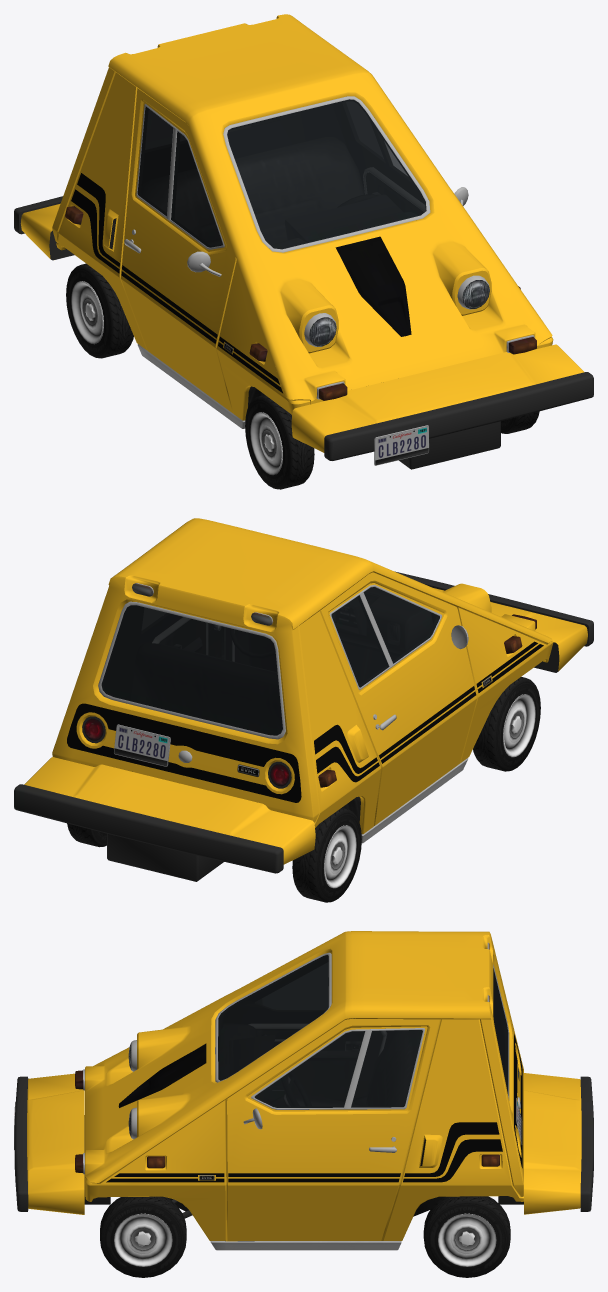
The model's file is colby.glb.
The picture shows the model from 3 angles, top to bottom: view 1: azimuth 30°, elevation 25°; view 2: azimuth 150°, elevation 25°; view 3: azimuth 270°, elevation 25°; orthographic projection. The views are drawn at different scales.
Parts seen in each view (by area): view 1: Colby80_body_SHTYCAR80_bodymat_0, Colby80_Interior_UCB_Interiors_2_0, Colby80_Windshield_UCB_Lights_and_Glass_Transperent_0, Colby80_Bottom_UCB_BOTTOM_0, Colby80_Bumper_Front_SHTYCAR80_bodymat_0, Colby80_Bumper_Front_Inner_UCB_BOTTOM_0, Colby80_Glass_Passenger_UCB_Lights_and_Glass_Transperent_0, wheel_FR, wheel_RR, Colby80_Vynil_Trim_UCB_BOTTOM_0, Colby80_Numberplate_front_Numberplates_Misk_U_0, Colby80_Headlights_UCB_Lights_and_Glass_0 (+4 smaller); view 2: Colby80_body_SHTYCAR80_bodymat_0, Colby80_Interior_UCB_Interiors_2_0, Colby80_Rear_window_UCB_Lights_and_Glass_Transperent_0, Colby80_Bumper_Rear_SHTYCAR80_bodymat_0, Colby80_Bumper_rear_Inner_UCB_BOTTOM_0, Colby80_Vynil_Trim_UCB_BOTTOM_0, Colby80_Bottom_UCB_BOTTOM_0, Colby80_Glass_Passenger_UCB_Lights_and_Glass_Transperent_0, wheel_RR, wheel_FR, Colby80_Bumper_Front_SHTYCAR80_bodymat_0, Colby80_Numberplate_rear_Numberplates_Misk_U_0 (+3 smaller); view 3: Colby80_body_SHTYCAR80_bodymat_0, Colby80_Interior_UCB_Interiors_2_0, Colby80_Glass_Driver_UCB_Lights_and_Glass_Transperent_0, Colby80_Bottom_UCB_BOTTOM_0, Colby80_Bumper_Rear_SHTYCAR80_bodymat_0, Colby80_Bumper_Front_SHTYCAR80_bodymat_0, Colby80_Windshield_UCB_Lights_and_Glass_Transperent_0, wheel_RL, wheel_FL, Colby80_Vynil_Trim_UCB_BOTTOM_0, Colby80_Glass_Passenger_UCB_Lights_and_Glass_Transperent_0, Colby80_Bumper_Front_Inner_UCB_BOTTOM_0 (+3 smaller).
Part boxes in pixels (<box>): Colby80_body_SHTYCAR80_bodymat_0: <box>52,14,553,420</box>; Colby80_Interior_UCB_Interiors_2_0: <box>138,100,425,248</box>; Colby80_Windshield_UCB_Lights_and_Glass_Transperent_0: <box>227,99,426,249</box>; Colby80_Bottom_UCB_BOTTOM_0: <box>65,96,536,428</box>; Colby80_Bumper_Front_SHTYCAR80_bodymat_0: <box>291,344,584,452</box>; Colby80_Bumper_Front_Inner_UCB_BOTTOM_0: <box>324,372,593,469</box>; Colby80_Glass_Passenger_UCB_Lights_and_Glass_Transperent_0: <box>137,107,222,247</box>; wheel_FR: <box>245,394,314,489</box>; wheel_RR: <box>66,263,133,358</box>; Colby80_Vynil_Trim_UCB_BOTTOM_0: <box>71,173,282,393</box>; Colby80_Numberplate_front_Numberplates_Misk_U_0: <box>374,425,429,465</box>; Colby80_Headlights_UCB_Lights_and_Glass_0: <box>309,280,489,346</box>; Colby80_body_SHTYCAR80_bodymat_0: <box>52,518,553,834</box>; Colby80_Interior_UCB_Interiors_2_0: <box>102,587,439,734</box>; Colby80_Rear_window_UCB_Lights_and_Glass_Transperent_0: <box>101,605,282,735</box>; Colby80_Bumper_Rear_SHTYCAR80_bodymat_0: <box>24,757,315,864</box>; Colby80_Bumper_rear_Inner_UCB_BOTTOM_0: <box>14,784,283,881</box>; Colby80_Vynil_Trim_UCB_BOTTOM_0: <box>67,641,543,802</box>; Colby80_Bottom_UCB_BOTTOM_0: <box>82,583,542,843</box>; Colby80_Glass_Passenger_UCB_Lights_and_Glass_Transperent_0: <box>331,587,439,687</box>; wheel_RR: <box>292,808,361,902</box>; wheel_FR: <box>473,677,540,771</box>; Colby80_Bumper_Front_SHTYCAR80_bodymat_0: <box>434,588,587,671</box>; Colby80_Numberplate_rear_Numberplates_Misk_U_0: <box>114,724,170,766</box>; Colby80_body_SHTYCAR80_bodymat_0: <box>85,931,523,1241</box>; Colby80_Interior_UCB_Interiors_2_0: <box>218,955,507,1107</box>; Colby80_Glass_Driver_UCB_Lights_and_Glass_Transperent_0: <box>254,1030,422,1107</box>; Colby80_Bottom_UCB_BOTTOM_0: <box>75,942,520,1250</box>; Colby80_Bumper_Rear_SHTYCAR80_bodymat_0: <box>524,1073,581,1214</box>; Colby80_Bumper_Front_SHTYCAR80_bodymat_0: <box>27,1073,84,1214</box>; Colby80_Windshield_UCB_Lights_and_Glass_Transperent_0: <box>218,955,328,1080</box>; wheel_RL: <box>423,1196,510,1277</box>; wheel_FL: <box>100,1196,186,1277</box>; Colby80_Vynil_Trim_UCB_BOTTOM_0: <box>106,1034,522,1182</box>; Colby80_Glass_Passenger_UCB_Lights_and_Glass_Transperent_0: <box>257,963,328,1009</box>; Colby80_Bumper_Front_Inner_UCB_BOTTOM_0: <box>14,1076,110,1211</box>.
Size of the model in its own units: 2.12 by 2.05 by 4.2.
8 materials, 7 textured.
